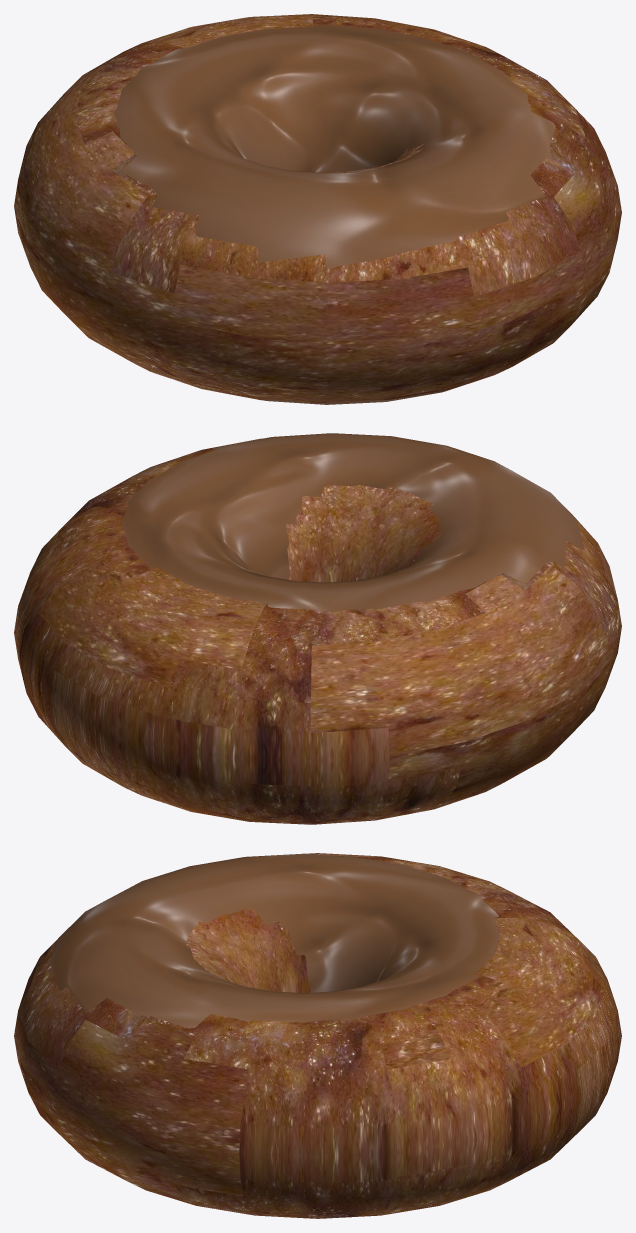
File: donut-eduardo-enriquez.fbx
The picture shows the model from 3 angles, top to bottom: view 1: azimuth 30°, elevation 25°; view 2: azimuth 150°, elevation 25°; view 3: azimuth 270°, elevation 25°; orthographic projection. The views are drawn at different scales.
Visible parts, largest first — view 1: Torus, Torus1; view 2: Torus, Torus1; view 3: Torus, Torus1.
Part boxes in pixels (x1=…): Torus: x1=14, y1=14, x2=621, y2=403; Torus1: x1=114, y1=24, x2=555, y2=404; Torus: x1=14, y1=438, x2=621, y2=824; Torus1: x1=121, y1=433, x2=584, y2=611; Torus: x1=14, y1=853, x2=621, y2=1218; Torus1: x1=49, y1=853, x2=499, y2=1028.
Size of the model in its own units: 5.26 by 2.03 by 5.56.
Materials: 2 (2 with a texture image).
